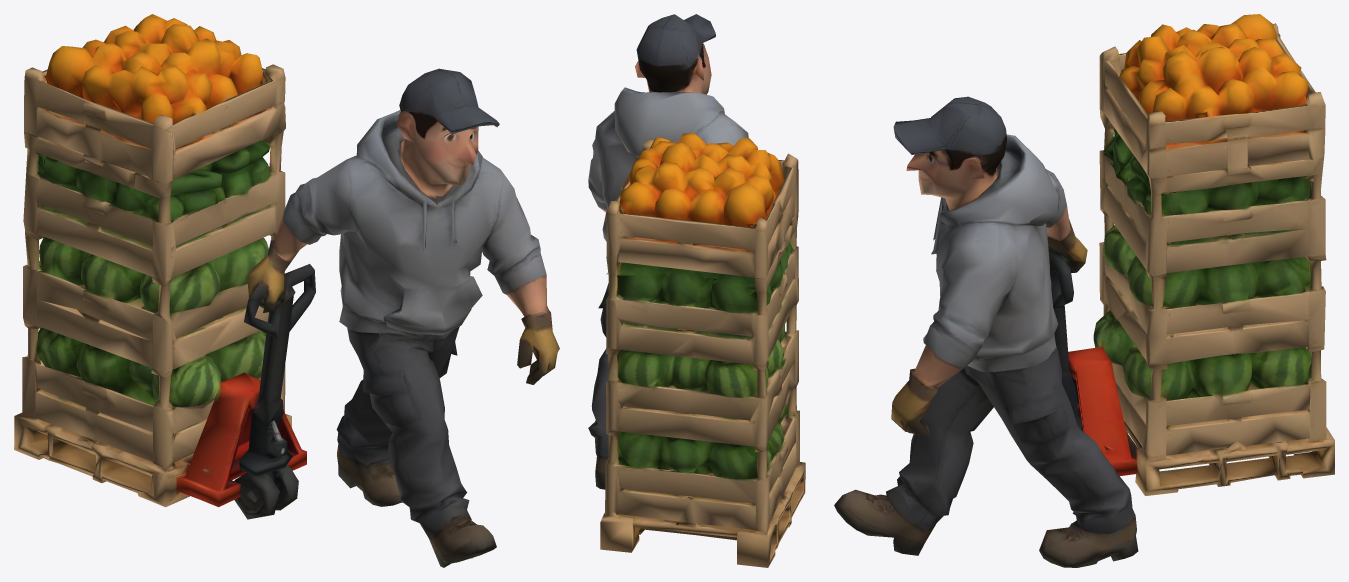
Rendered from npc_jack.glb.
3 renders of one model, left to right at view 1: azimuth 30°, elevation 25°; view 2: azimuth 150°, elevation 25°; view 3: azimuth 270°, elevation 25°, orthographic. The views are drawn at different scales.
Parts seen in each view (by area): view 1: tripo_node_ae5cbb7f-041e-408e-8489-87847cb9e330; view 2: tripo_node_ae5cbb7f-041e-408e-8489-87847cb9e330; view 3: tripo_node_ae5cbb7f-041e-408e-8489-87847cb9e330.
Boxes of the visible parts, x1,y1,x2,y2 form: tripo_node_ae5cbb7f-041e-408e-8489-87847cb9e330: (14, 14, 559, 567); tripo_node_ae5cbb7f-041e-408e-8489-87847cb9e330: (588, 14, 805, 567); tripo_node_ae5cbb7f-041e-408e-8489-87847cb9e330: (834, 14, 1334, 567).
Bounding box in the file's own units: 1.53 × 1.9 × 1.86.
Materials: 1 (1 with a texture image).
